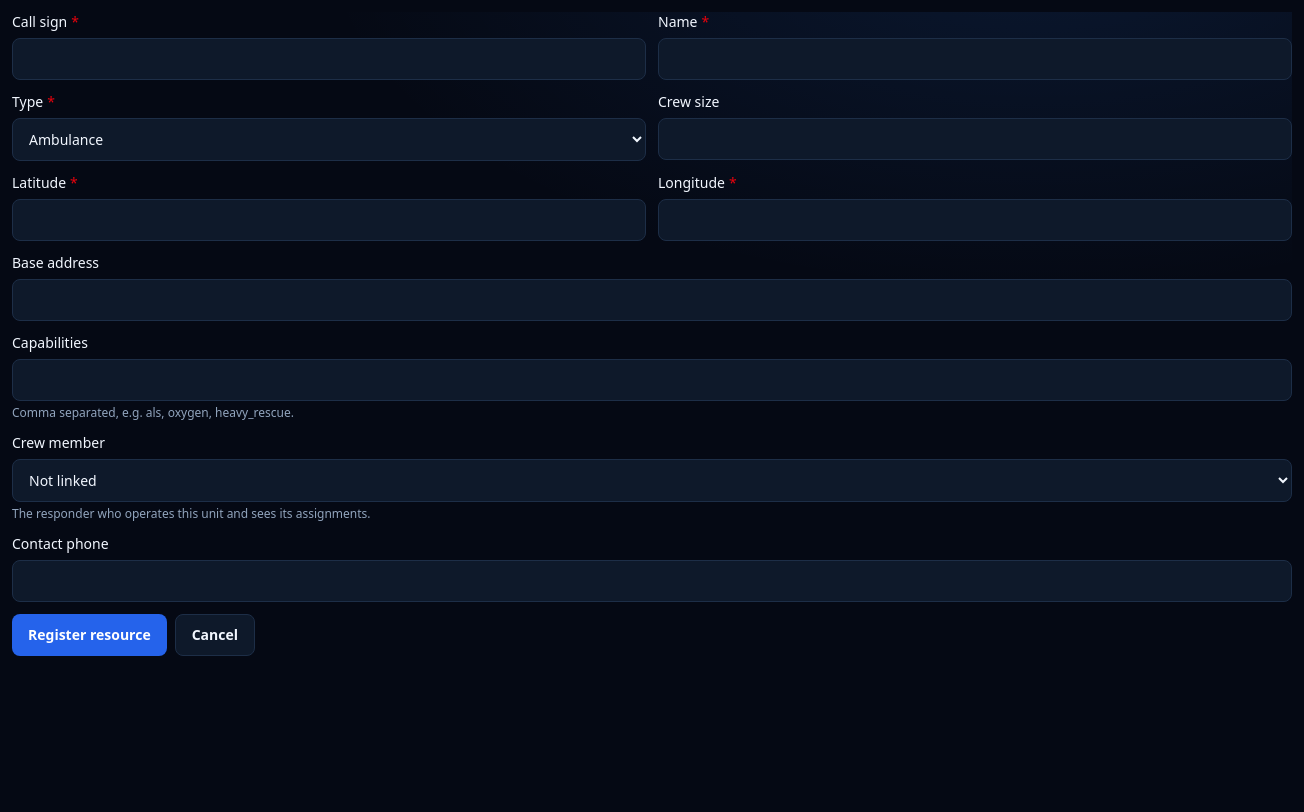
Scenario: ResourceForm › submits a normalised payload and shows a server refusal
Type "amb-9" into the field labelled "Call sign*" at (329, 59), box [12,38,646,80]
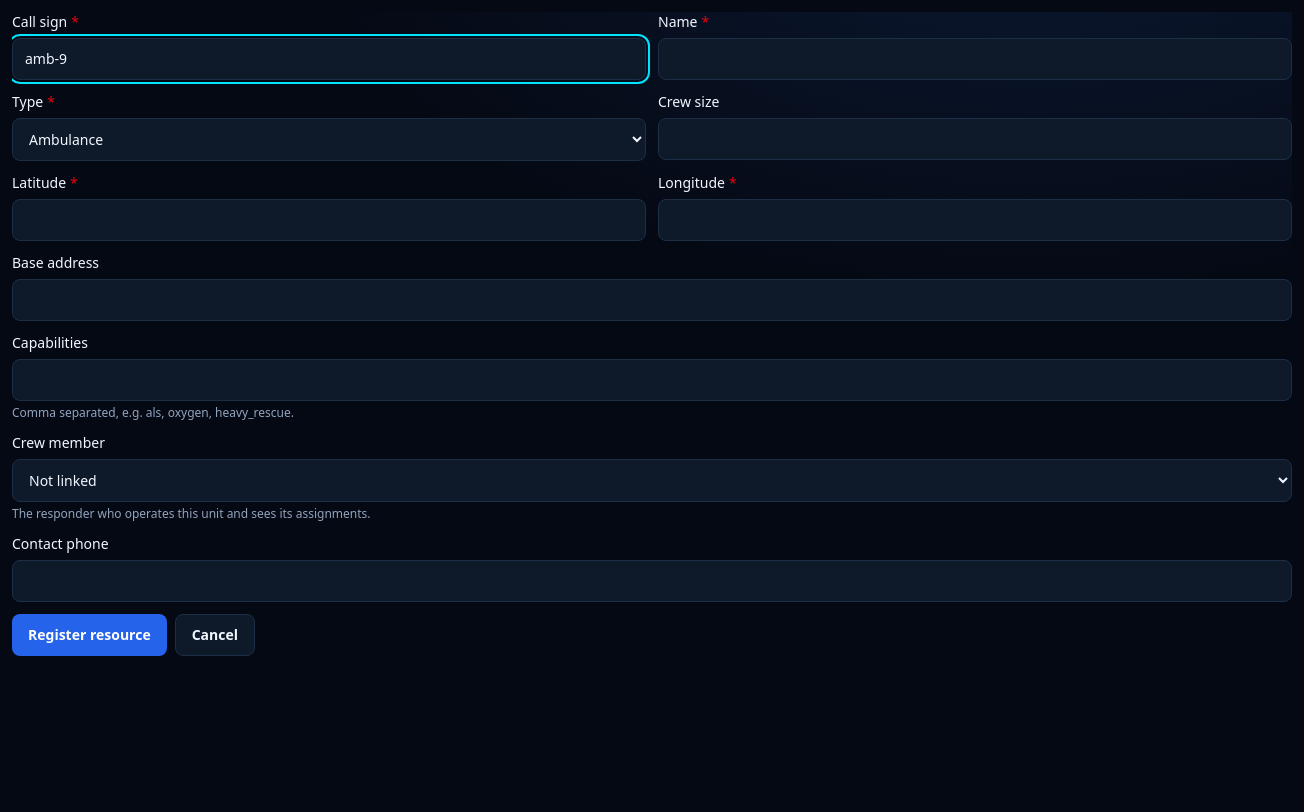
Type "Ambulance Nine" into the field labelled "Name*" at (975, 59), box [658,38,1292,80]
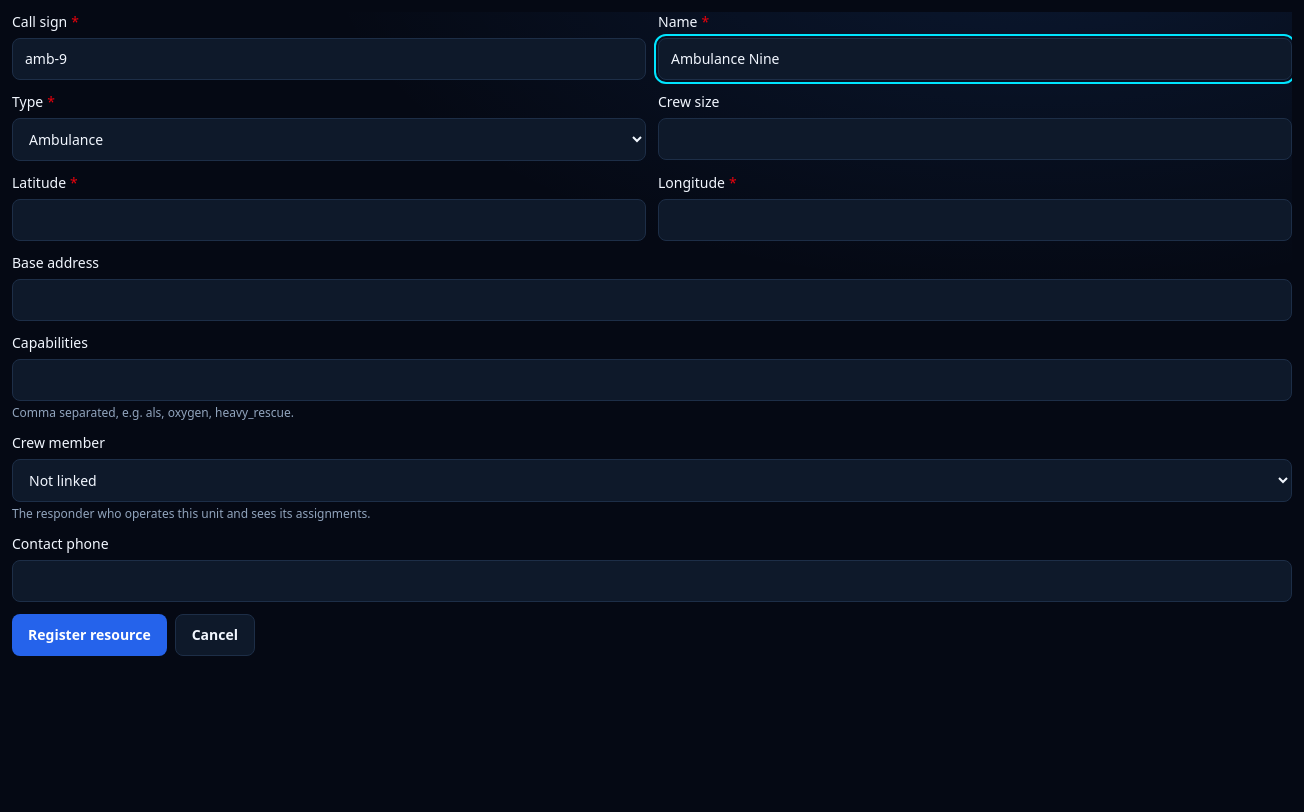
Type "13.1" into the field labelled "Latitude*" at (329, 220), box [12,199,646,241]
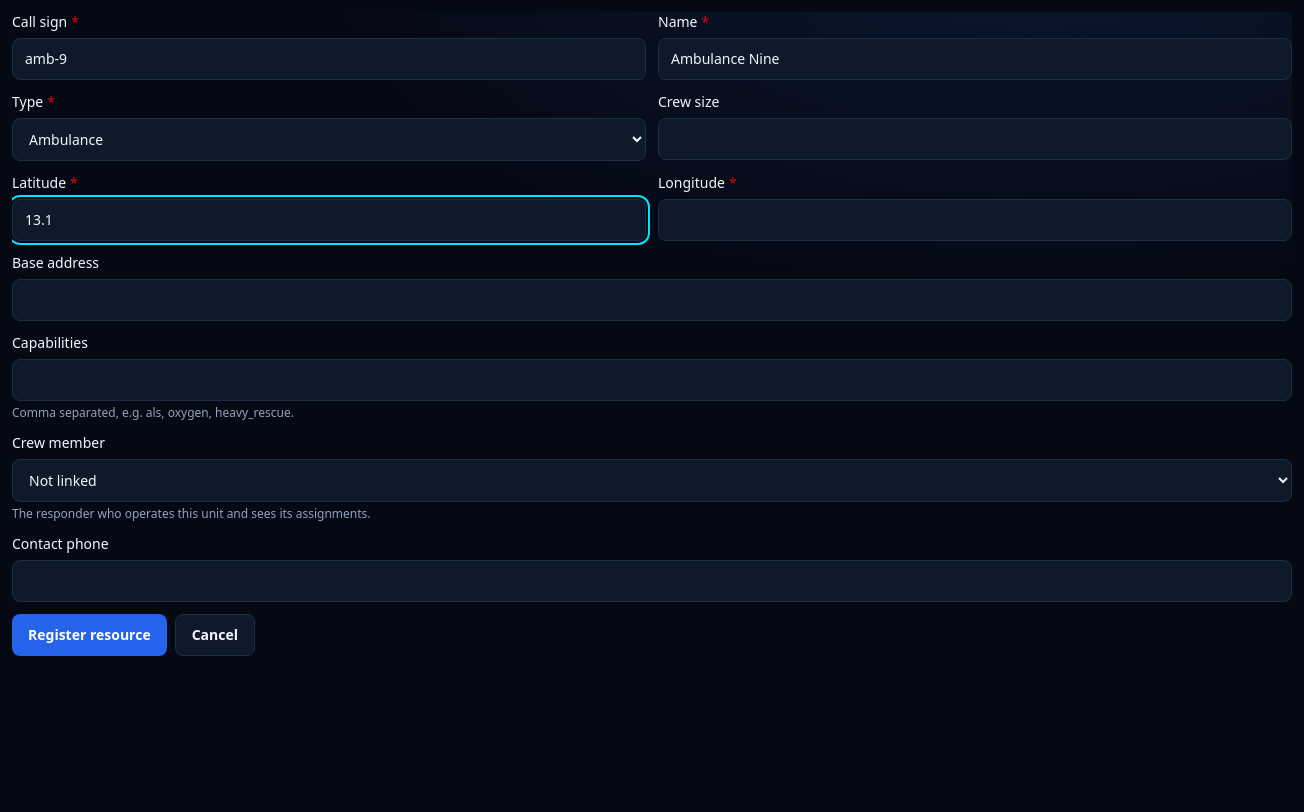
Type "80.2" into the field labelled "Longitude*" at (975, 220), box [658,199,1292,241]
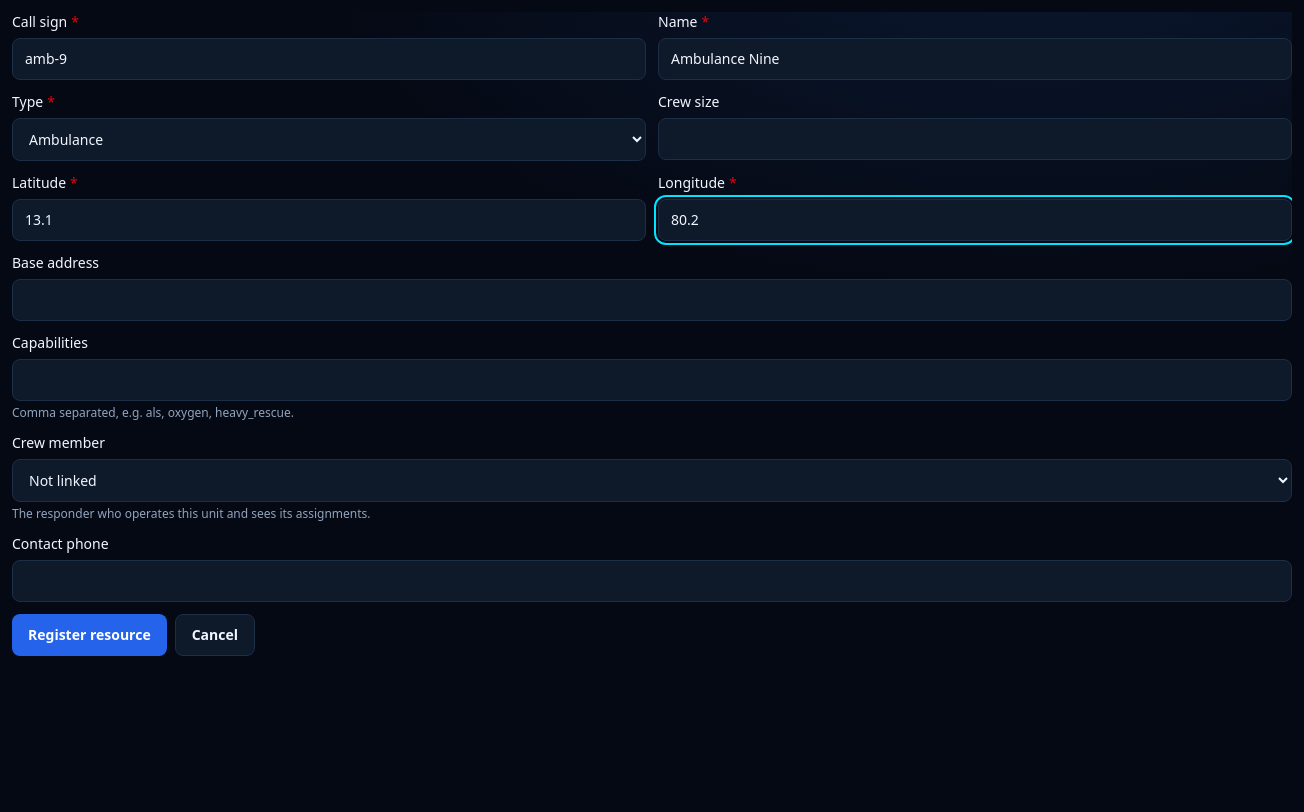
Type "ALS, oxygen" into the field labelled "Capabilities" at (652, 380), box [12,359,1292,401]
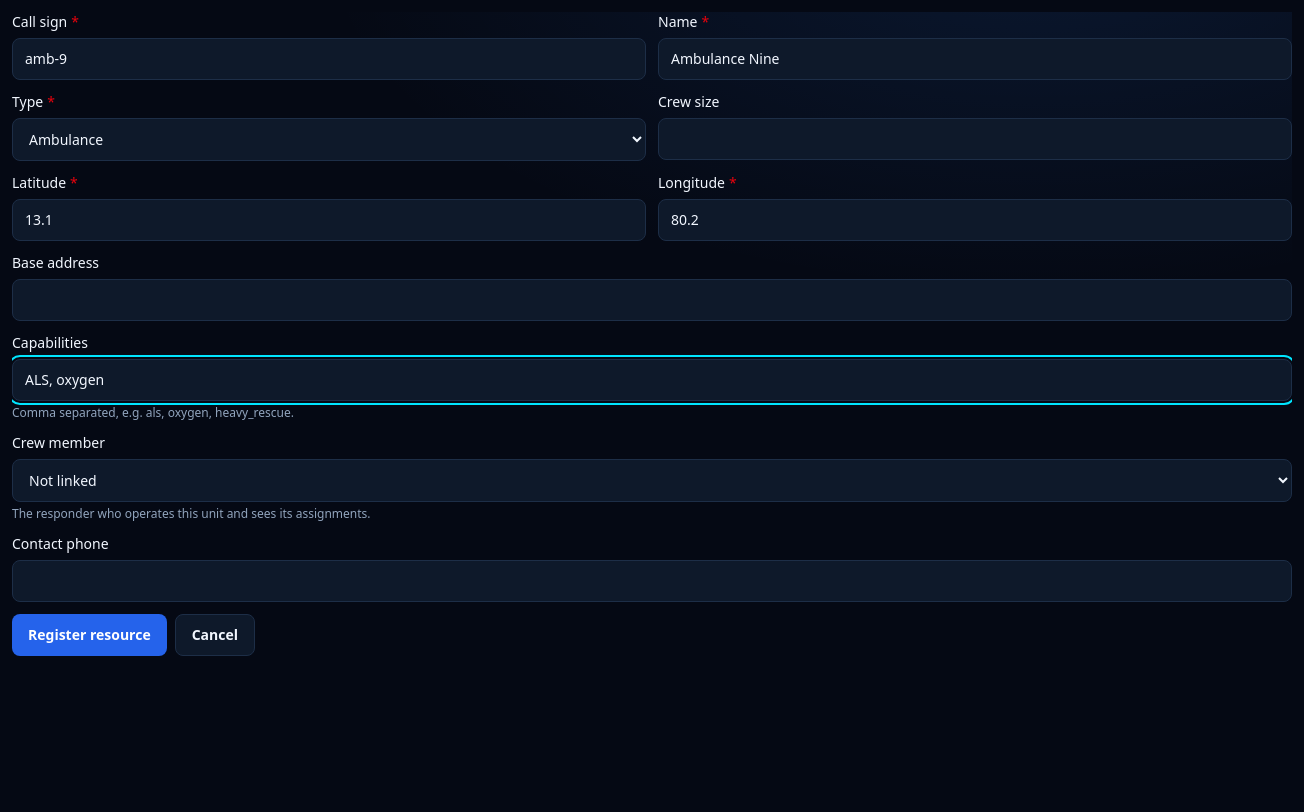
Click the button "Register resource" at (89, 635), box [12,614,167,656]
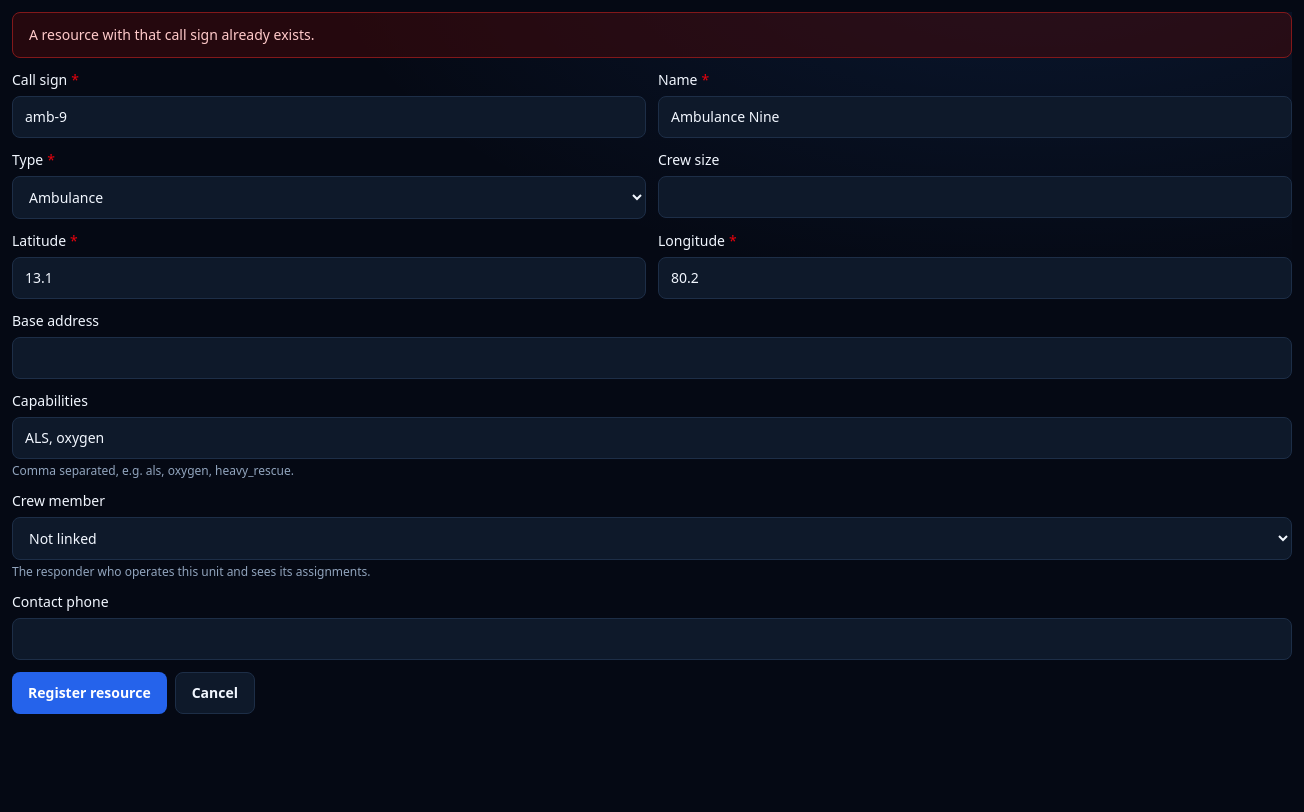
Now the message shows "call sign already exists", box [29,25,314,44]
